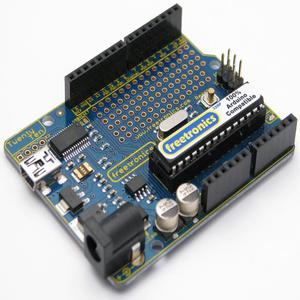duino: (4, 3, 297, 294)
